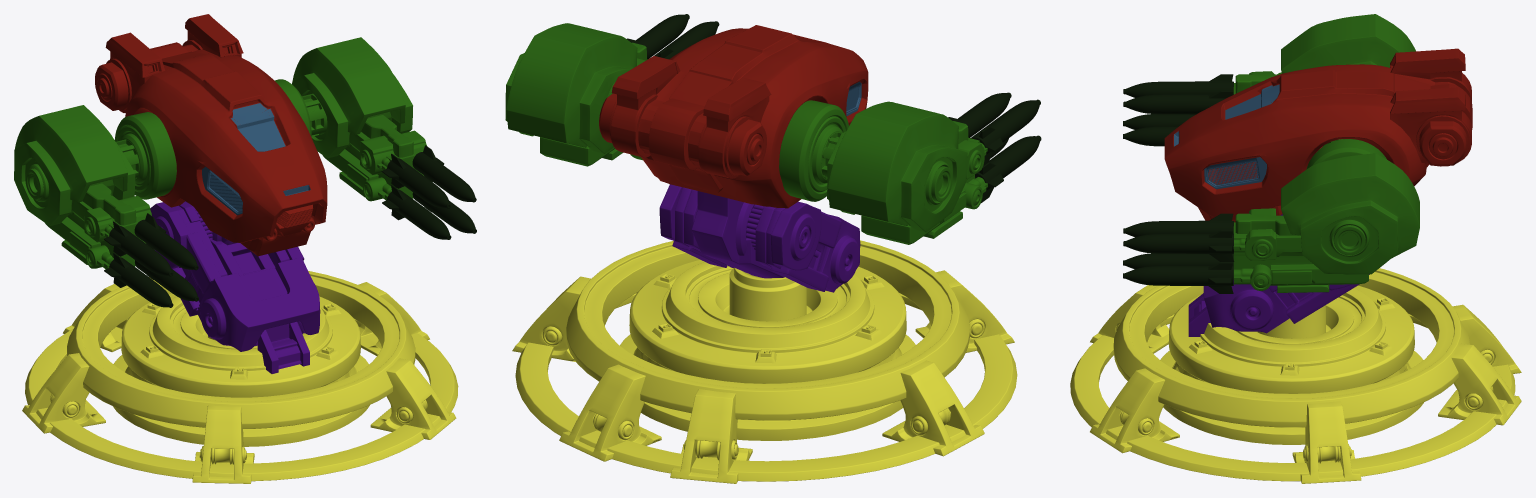
The model's file is Sci-Fi Heavy Missile Defense Turret - PBR Game Ready.fbx.
3 views of the same model, side by side, from view 1: azimuth 30°, elevation 25°; view 2: azimuth 150°, elevation 25°; view 3: azimuth 270°, elevation 25° (orthographic). The views are drawn at different scales.
Visible parts, largest first — view 1: turret base, turret body, turret left arm001, turret Middle, turret left arm, turret missile left, turret missile left001; view 2: turret base, turret body, turret left arm001, turret Middle, turret left arm, turret missile left001, turret missile left; view 3: turret base, turret body, turret left arm, turret missile left, turret left arm001, turret Middle, turret missile left001.
Part boxes in pixels (x1,y1,x2,y2): turret base: [22, 271, 458, 483]; turret body: [95, 14, 327, 256]; turret left arm001: [14, 105, 176, 269]; turret Middle: [150, 201, 320, 373]; turret left arm: [274, 37, 426, 201]; turret missile left: [381, 145, 476, 239]; turret missile left001: [104, 213, 198, 307]; turret base: [512, 240, 1017, 483]; turret body: [599, 25, 868, 208]; turret left arm001: [779, 100, 987, 244]; turret Middle: [659, 184, 860, 292]; turret left arm: [505, 23, 647, 166]; turret missile left001: [948, 92, 1041, 202]; turret missile left: [627, 14, 719, 59]; turret base: [1070, 268, 1521, 483]; turret body: [1164, 48, 1472, 222]; turret left arm: [1233, 139, 1419, 292]; turret missile left: [1123, 213, 1234, 293]; turret left arm001: [1233, 14, 1415, 146]; turret Middle: [1188, 214, 1369, 336]; turret missile left001: [1123, 74, 1233, 146].
Size of the model in its own units: 79.6 by 60.19 by 78.39.
